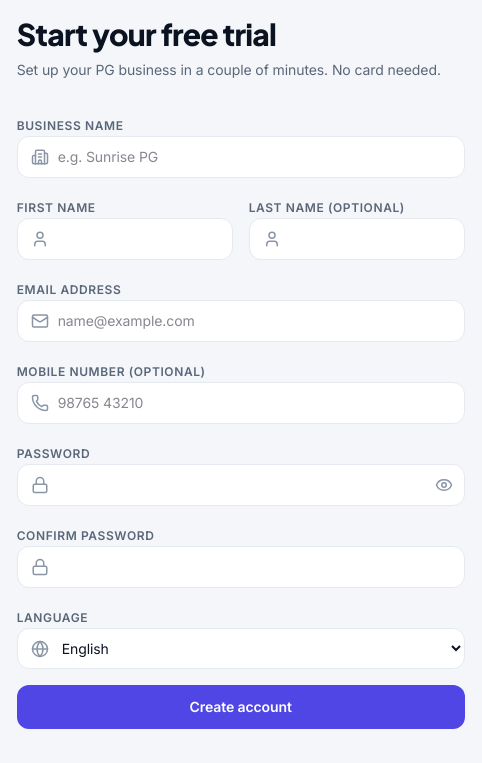
Test case: SignupForm › sends a normalized payload and shows the check-email panel
In the field labelled "Business name": [241, 157] box [17, 136, 465, 178], type "Sunrise PG"
In the field labelled "First name": [125, 239] box [17, 218, 233, 260], type "Ramesh"
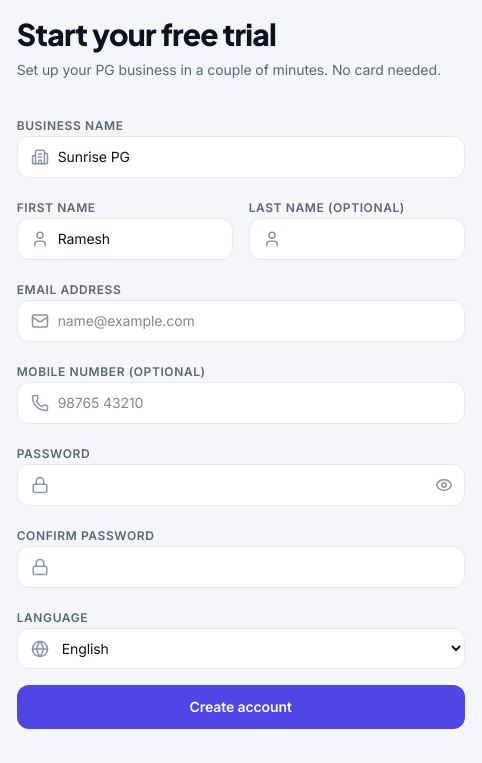
In the field labelled "Email Address": [241, 321] box [17, 300, 465, 342], type " ramesh@example.com "
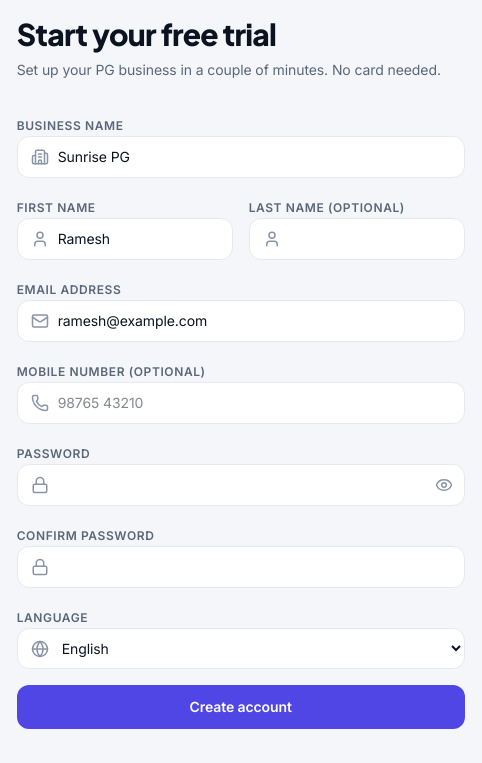
In the field labelled "Mobile number (optional)": [241, 403] box [17, 382, 465, 424], type "+91 98765 43210"
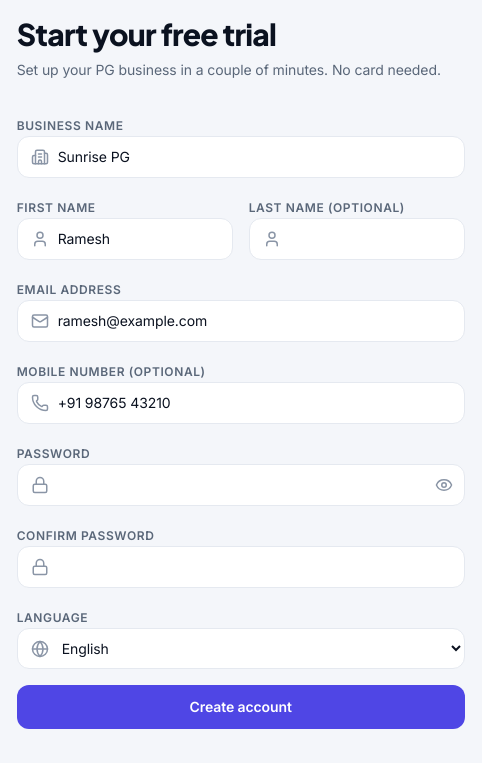
In the password field labelled "Password": [241, 485] box [17, 464, 465, 506], type "Vintage-Kite-77"
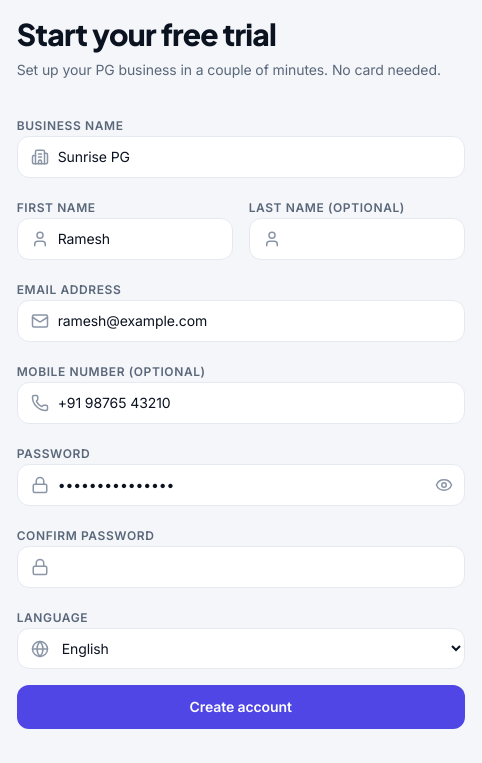
In the password field labelled "Confirm password": [241, 567] box [17, 546, 465, 588], type "Vintage-Kite-77"
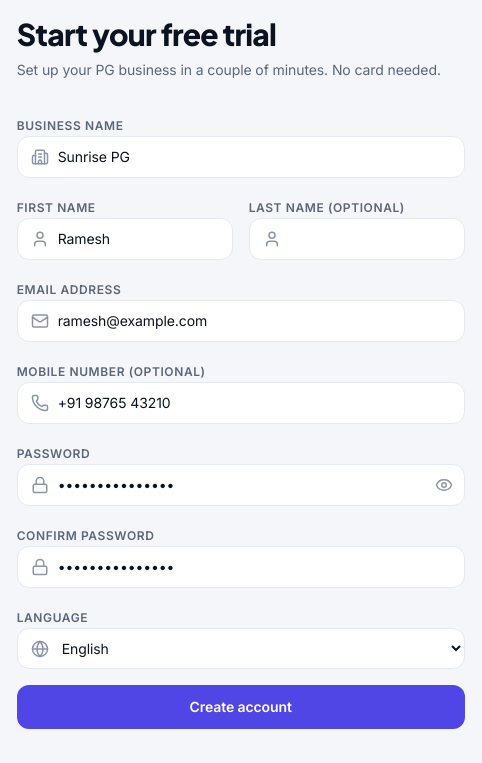
Click the button "Create account": [241, 707] box [17, 685, 465, 729]
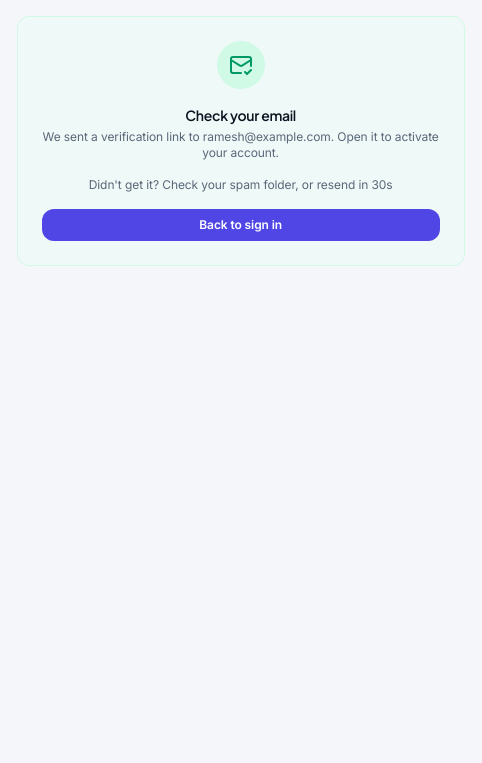
Now the heading "Check your email" is shown, box [185, 106, 296, 124]
Now the text "ramesh@example.com" is shown, box [43, 129, 439, 160]
